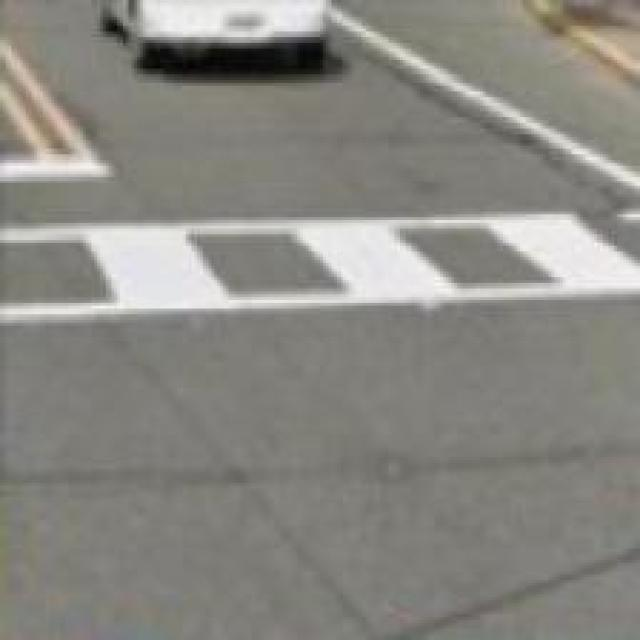walk-crossing: (0, 203, 634, 326)
